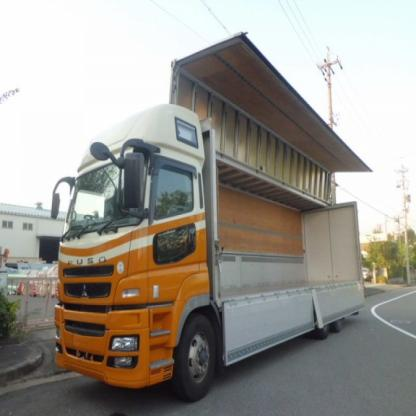truck: (48, 31, 373, 406)
